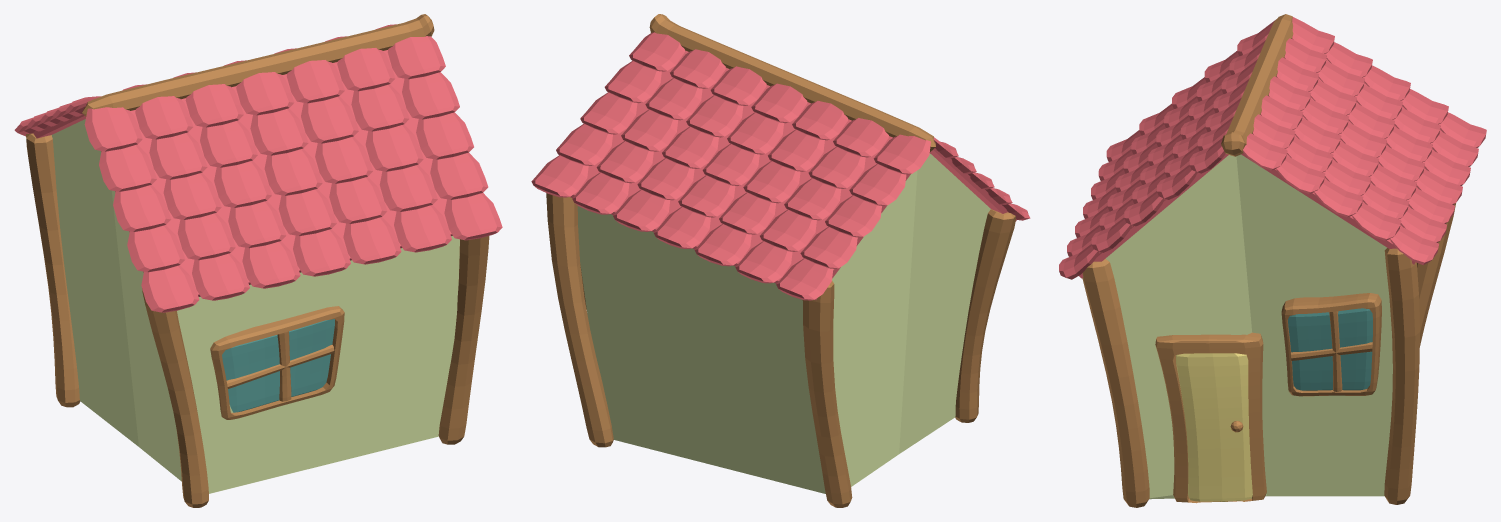
The model's file is casa.fbx.
3 views of the same model, side by side, from view 1: azimuth 30°, elevation 25°; view 2: azimuth 150°, elevation 25°; view 3: azimuth 270°, elevation 25° (orthographic). The views are drawn at different scales.
Visible parts, largest first — view 1: Cube.018; view 2: Cube.018; view 3: Cube.018.
Boxes of the visible parts, x1,y1,x2,y2 form: Cube.018: (14,14,502,507); Cube.018: (531,14,1030,507); Cube.018: (1059,14,1486,507).
Size of the model in its own units: 1104 by 1119 by 1118.
